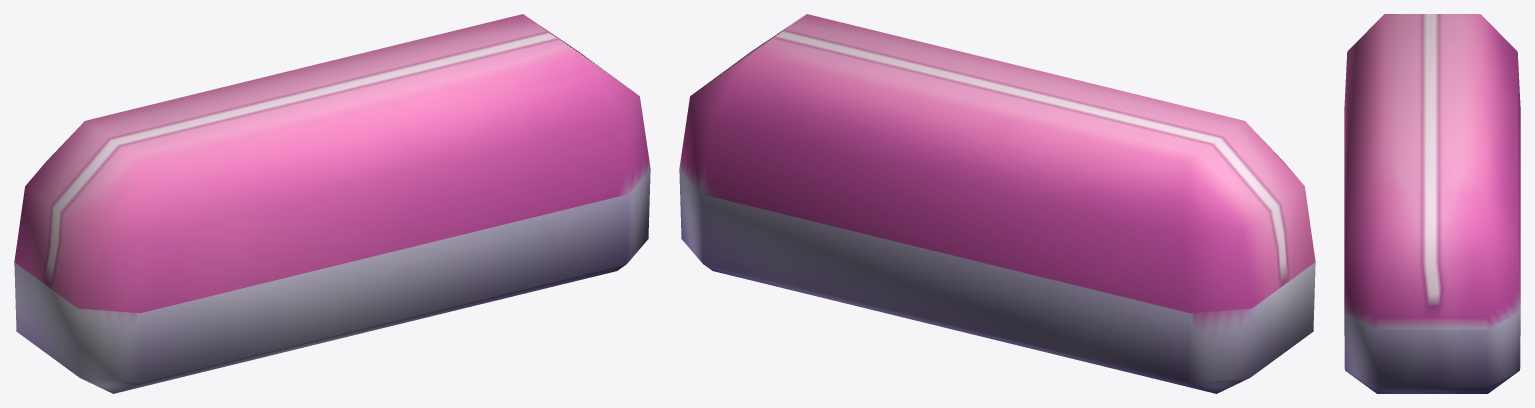
File: pencilCase_typeA1.FBX
The picture shows the model from 3 angles, left to right: view 1: azimuth 30°, elevation 25°; view 2: azimuth 150°, elevation 25°; view 3: azimuth 270°, elevation 25°; orthographic projection. The views are drawn at different scales.
Parts seen in each view (by area): view 1: PencilCaseA1; view 2: PencilCaseA1; view 3: PencilCaseA1.
Boxes of the visible parts, bbox=[...] form: PencilCaseA1: bbox=[14, 14, 650, 393]; PencilCaseA1: bbox=[679, 14, 1315, 393]; PencilCaseA1: bbox=[1344, 14, 1520, 393].
Bounding box in the file's own units: 19.85 × 7.3 × 6.28.
